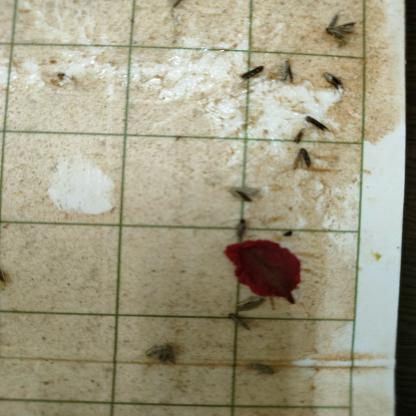prays_oleae: (147, 337, 193, 376), (319, 6, 359, 46), (304, 104, 334, 139), (277, 54, 298, 97), (228, 180, 257, 208), (242, 64, 270, 92), (292, 146, 320, 174), (324, 68, 344, 93), (288, 123, 306, 144)
